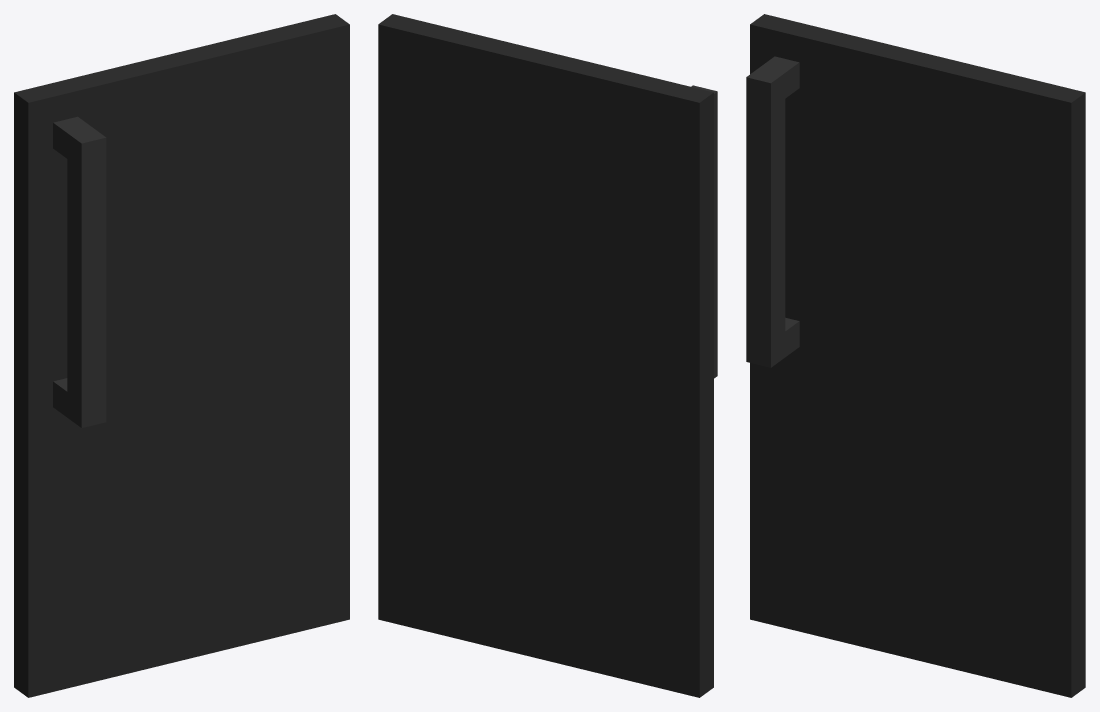
File: Decor-38.obj
3 renders of one model, left to right at view 1: azimuth 30°, elevation 25°; view 2: azimuth 150°, elevation 25°; view 3: azimuth 330°, elevation 25°, orthographic.
Size of the model in its own units: 1.3 by 2.3 by 0.3.
Materials: 1 (1 with a texture image).
